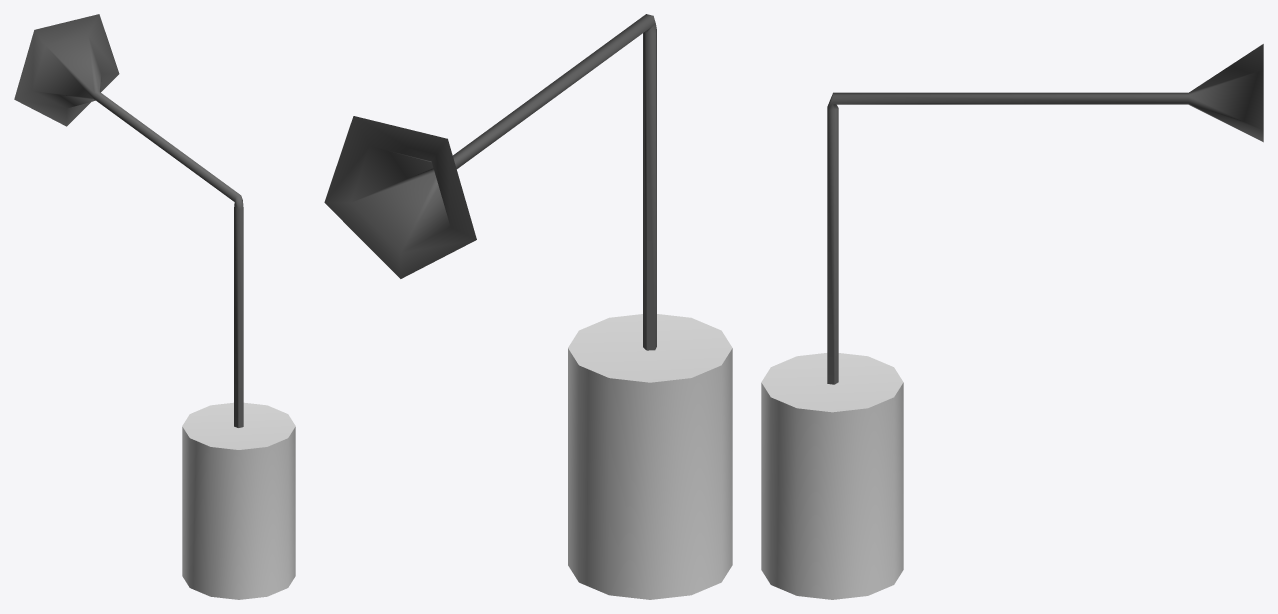
The model's file is Lamp.glb.
3 renders of one model, left to right at view 1: azimuth 30°, elevation 25°; view 2: azimuth 150°, elevation 25°; view 3: azimuth 270°, elevation 25°, orthographic. The views are drawn at different scales.
Visible parts, largest first — view 1: Ceiling Lamp 4; view 2: Ceiling Lamp 4; view 3: Ceiling Lamp 4.
Part boxes in pixels (x1=…): Ceiling Lamp 4: x1=14, y1=14, x2=295, y2=599; Ceiling Lamp 4: x1=324, y1=14, x2=732, y2=599; Ceiling Lamp 4: x1=761, y1=44, x2=1263, y2=599.
Bounding box in the file's own units: 0.2235 × 0.8753 × 0.7373.
Materials: 2 (1 with a texture image).
